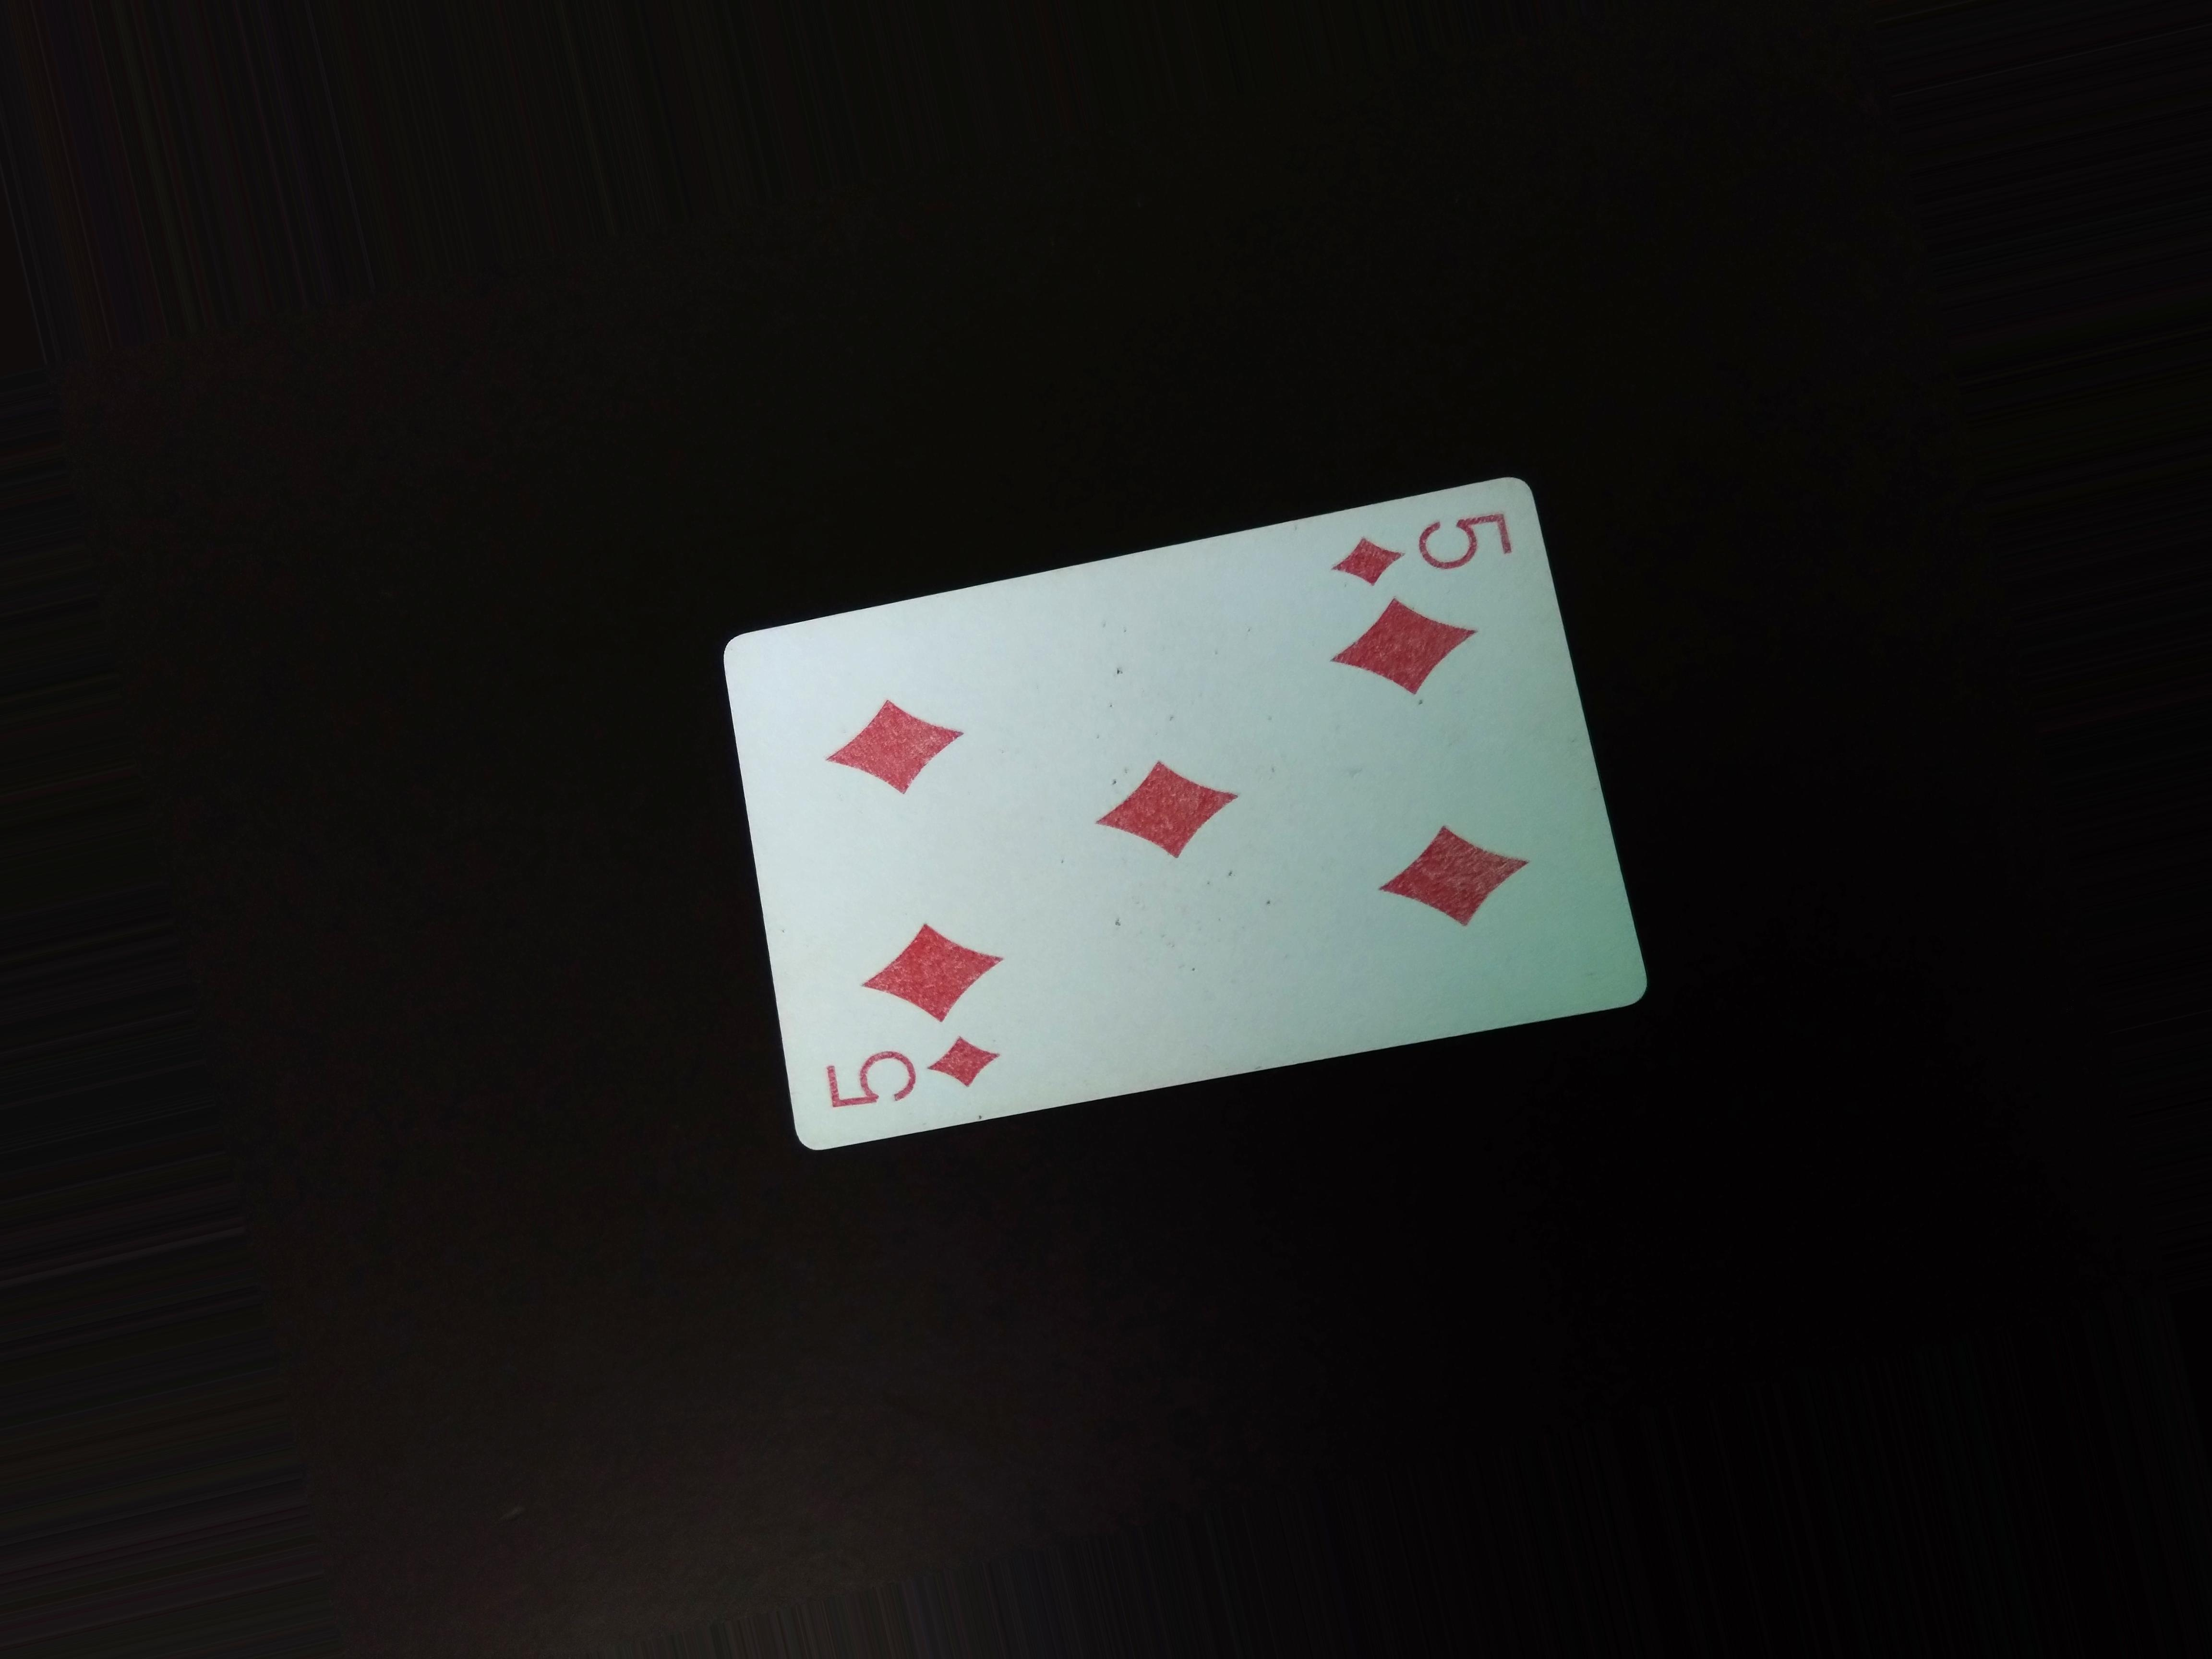5D: (1329, 504, 1543, 596)
